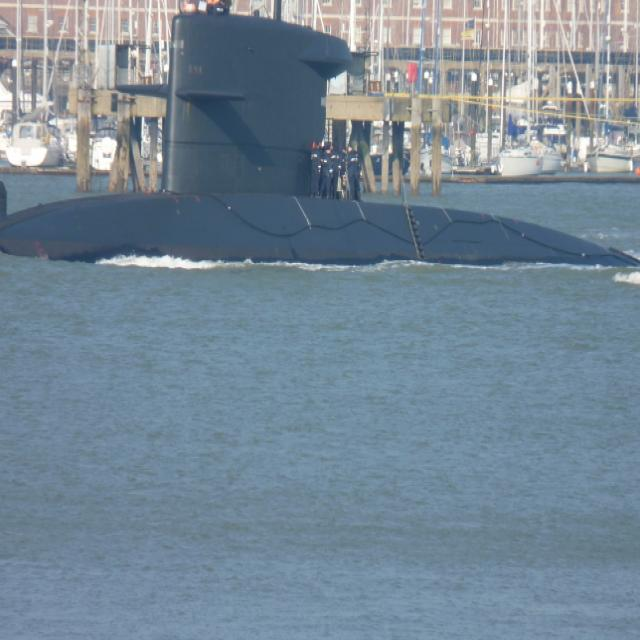submarine: (1, 13, 640, 274)
